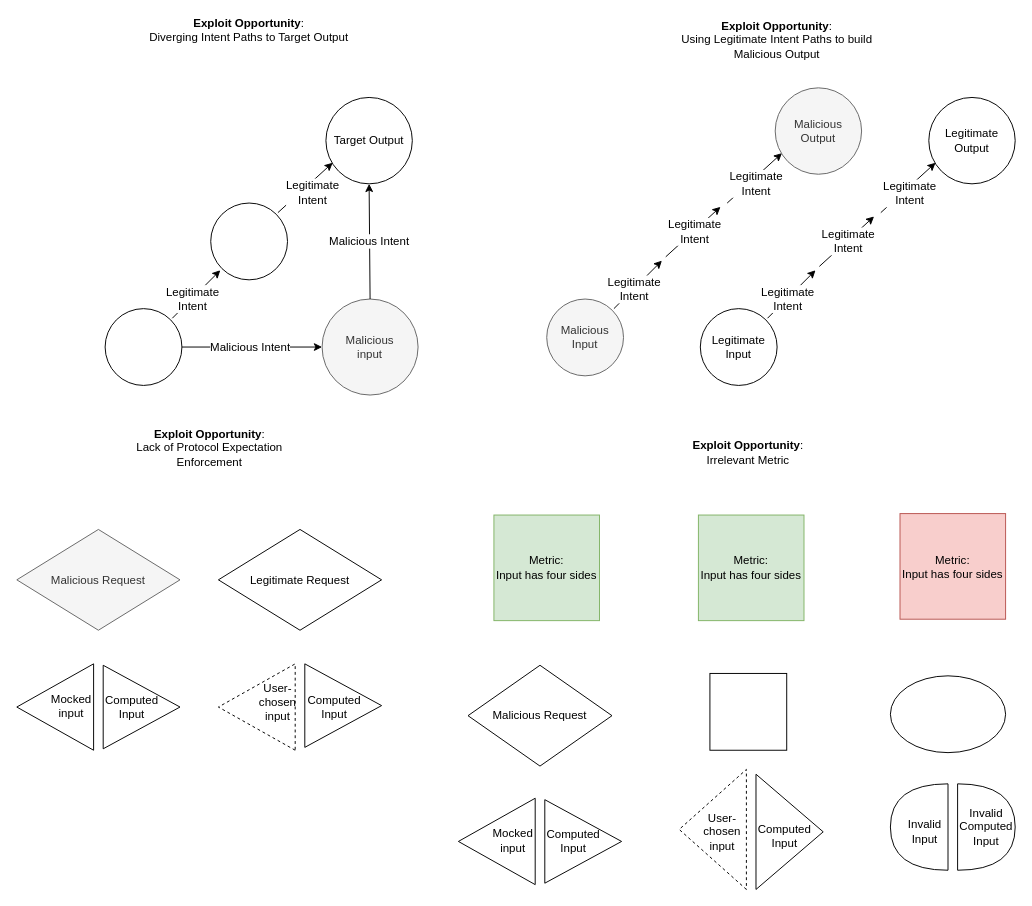
Some shapes in this 1032 by 906 pixel diagram are drawn without their labels. Each missing label, with the box of its shape:
Expected input: (210, 202, 288, 280)
Invalid Request: (889, 675, 1006, 753)
Legitimate Expected Request: (709, 672, 787, 750)
Point of entry: (104, 308, 182, 385)
